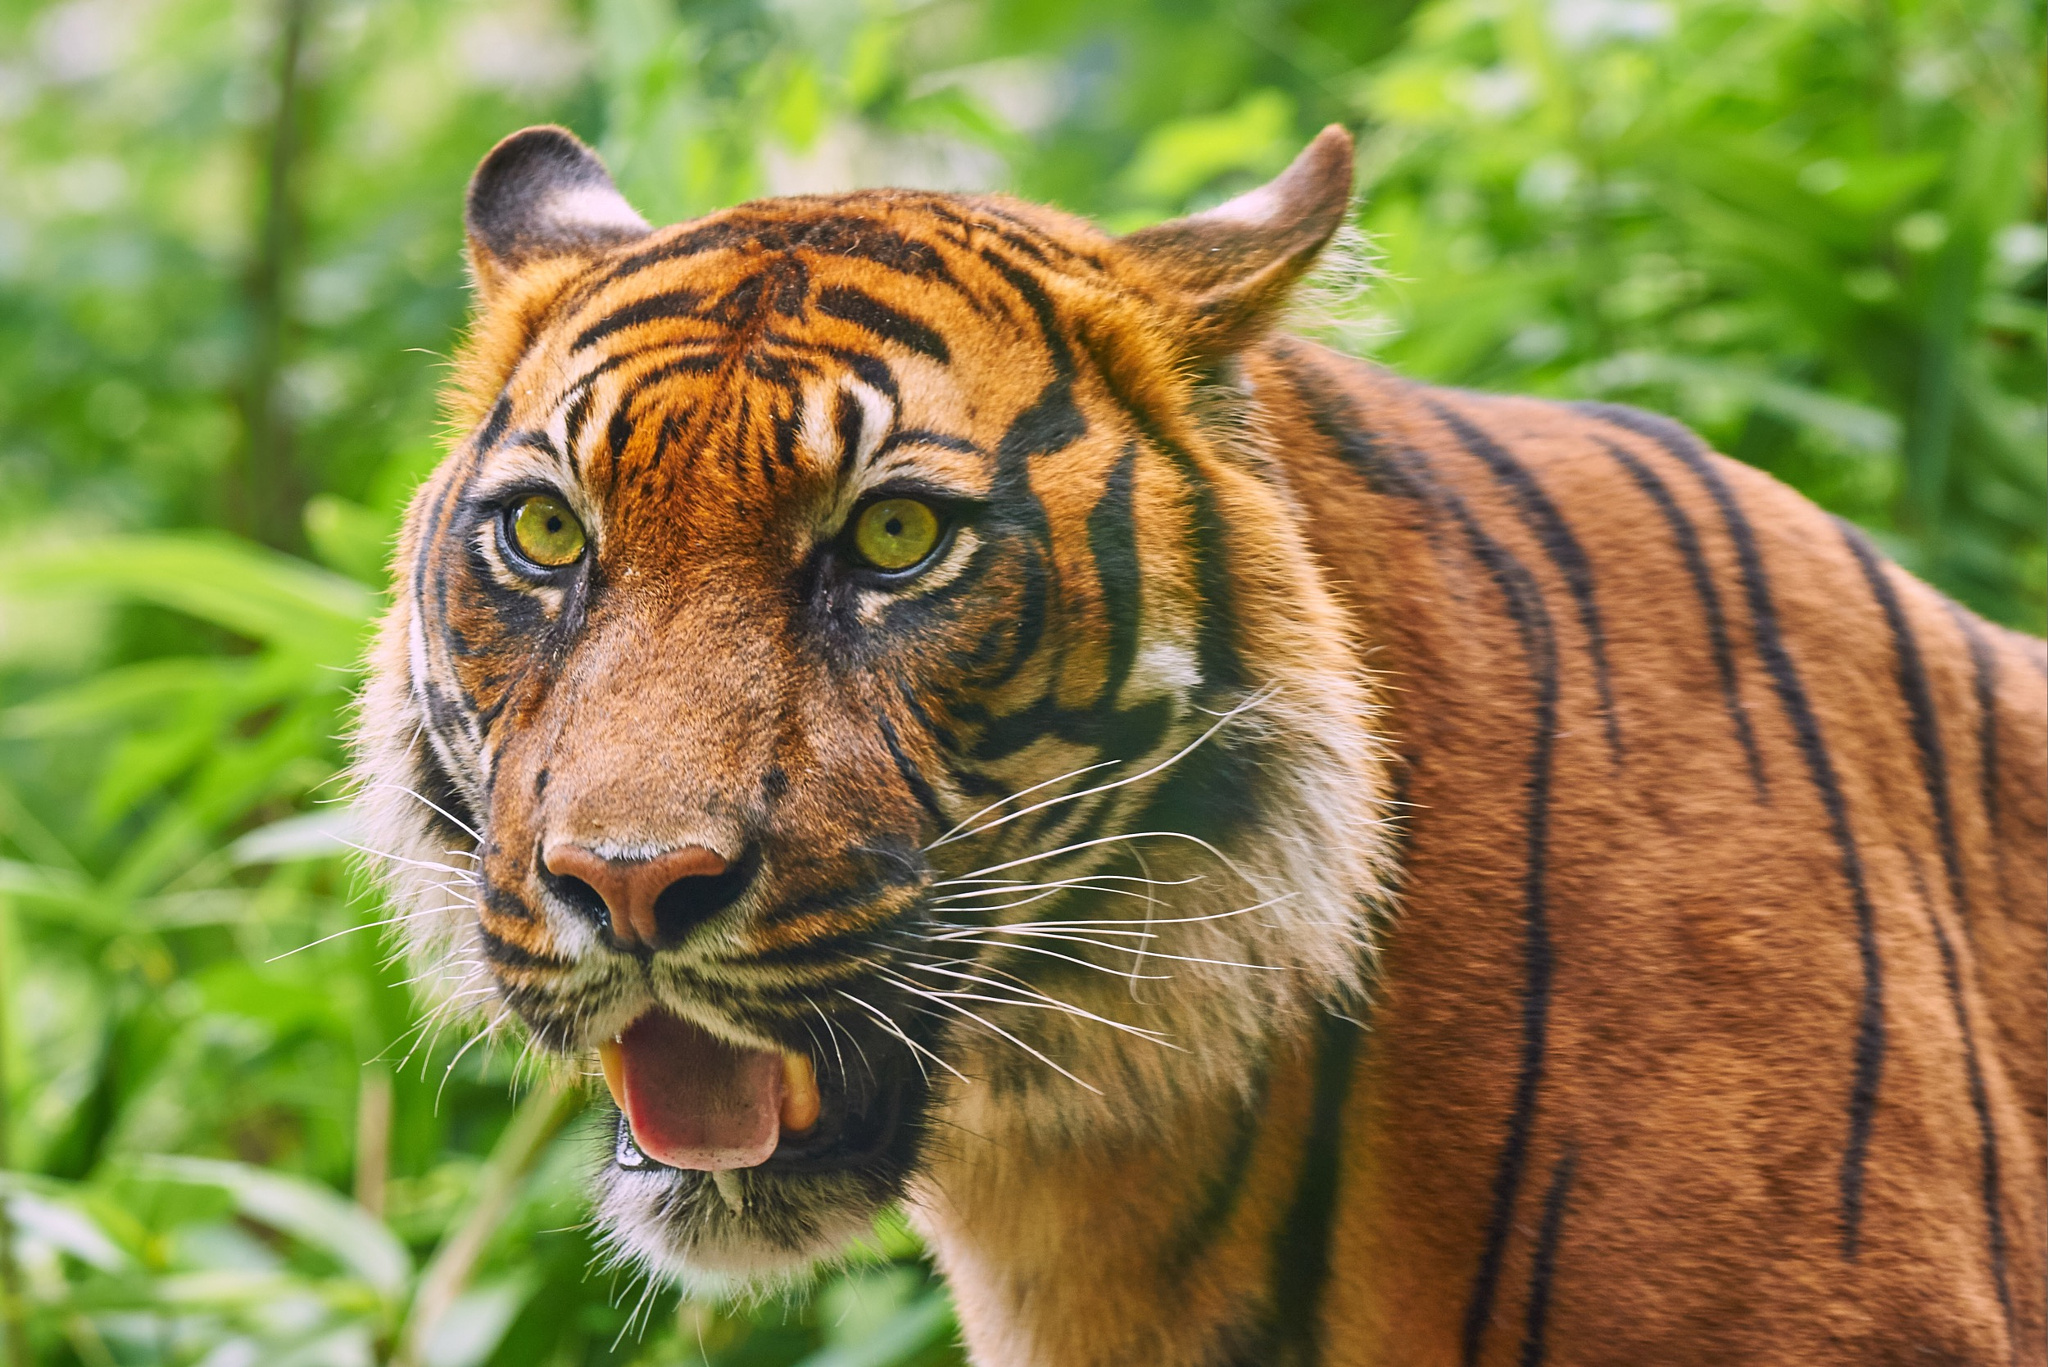tiger: (326, 76, 1917, 1295)
